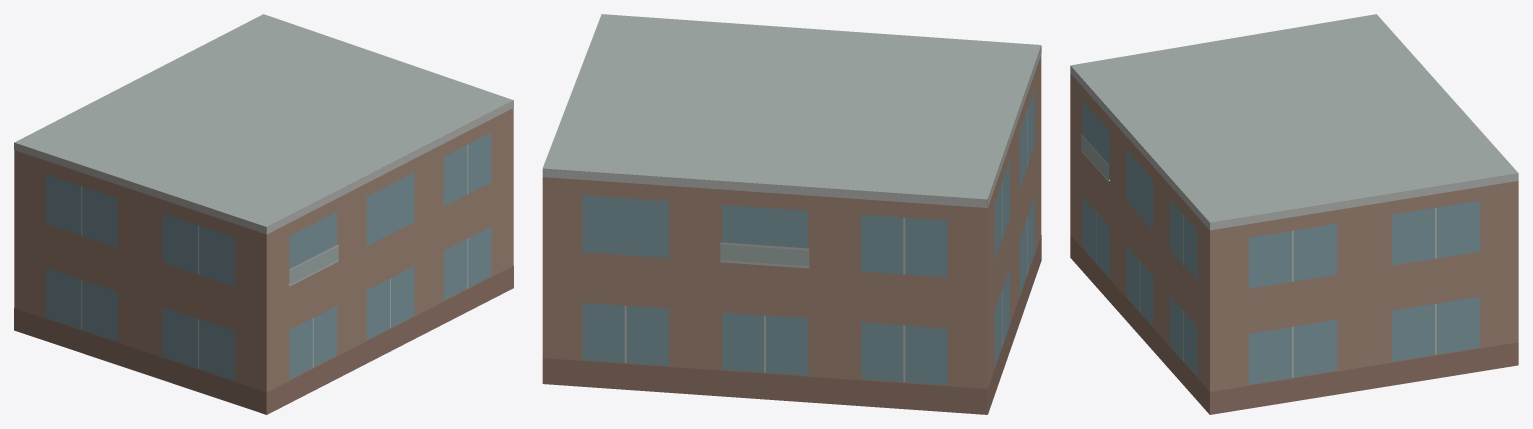
File: survey-upis-32785405.glb
The picture shows the model from 3 angles, left to right: view 1: azimuth 30°, elevation 25°; view 2: azimuth 150°, elevation 25°; view 3: azimuth 270°, elevation 25°; orthographic projection. The views are drawn at different scales.
Parts seen in each view (by area): view 1: survey-upis-32785405.tmp; view 2: survey-upis-32785405.tmp; view 3: survey-upis-32785405.tmp.
Boxes of the visible parts, box(x1,y1,x2,y2) form: survey-upis-32785405.tmp: box(14, 14, 513, 414); survey-upis-32785405.tmp: box(542, 14, 1041, 414); survey-upis-32785405.tmp: box(1070, 14, 1518, 414).
Size of the model in its own units: 14.22 by 6.1 by 12.91.
